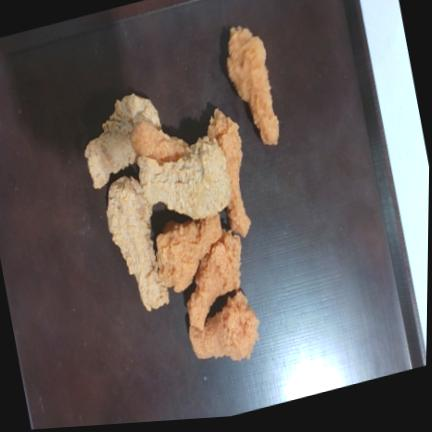chicken: (107, 176, 169, 310), (138, 136, 231, 219), (85, 94, 160, 189), (227, 26, 279, 144), (208, 109, 251, 237), (188, 230, 241, 329), (157, 215, 222, 292), (189, 291, 259, 360), (132, 121, 189, 163)
